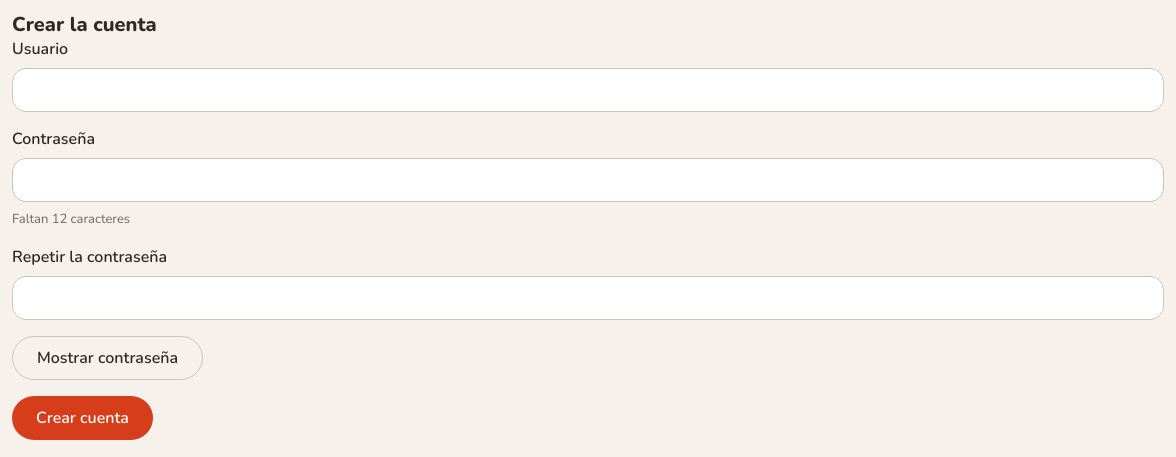
CreateAccountForm: la pantalla › actualiza el indicador al escribir y lo quita al llegar a 12 caracteres
Type "a" into the password field labelled "Contraseña".
click(588, 180); type("a")  # box [12,158,1164,202]
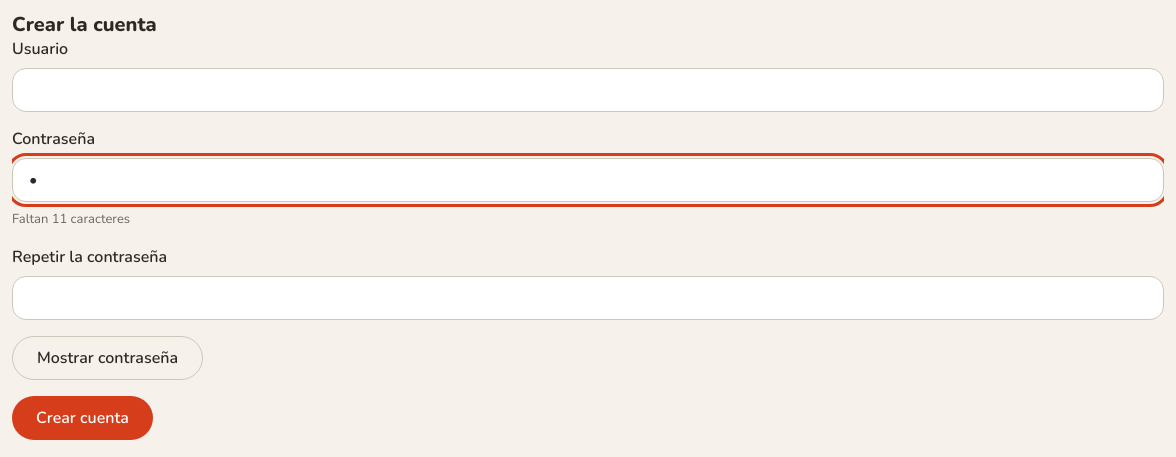
expect the text "Faltan 11 caracteres" is shown: met, box [12,210,130,228]
Type "abcdefghijk" into the password field labelled "Contraseña".
click(588, 180); type("abcdefghijk")  # box [12,158,1164,202]
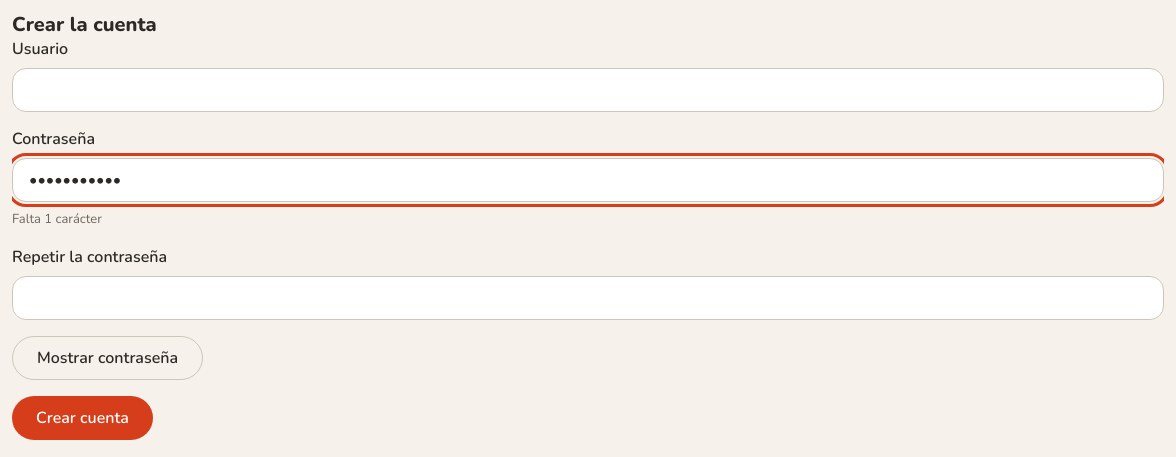
expect the text "Falta 1 carácter" is shown: met, box [12,210,102,228]
Type "abcdefghijkl" into the password field labelled "Contraseña".
click(588, 180); type("abcdefghijkl")  # box [12,158,1164,202]
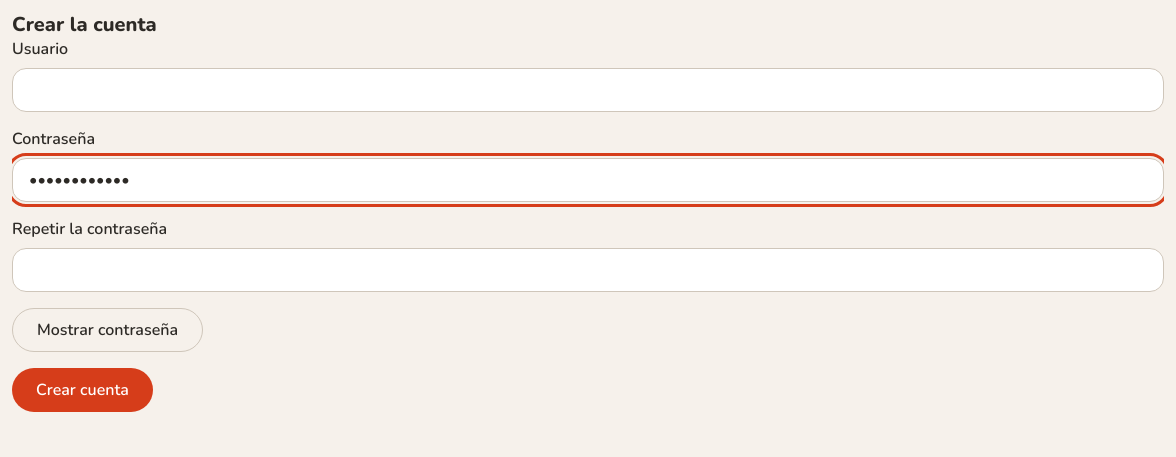
expect the text "Faltan 12 caracteres" is gone: met
